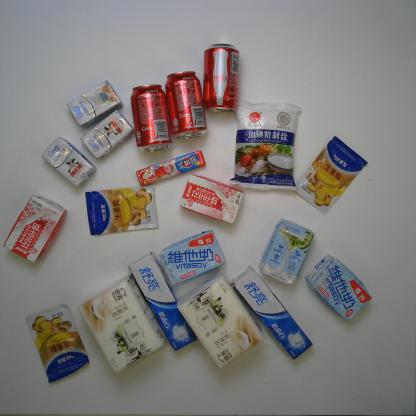Candy: (135, 150, 206, 187)
Drink: (164, 70, 208, 140), (130, 83, 173, 154), (203, 42, 240, 113)
Milk: (304, 254, 373, 323), (3, 193, 67, 264), (258, 218, 315, 286), (158, 229, 226, 286), (179, 173, 244, 225), (40, 136, 97, 187), (66, 79, 122, 129), (80, 109, 134, 160)
Personal Hygiene: (232, 265, 314, 361), (127, 250, 198, 352)
Seasoner: (229, 99, 302, 192), (295, 135, 369, 216), (26, 303, 90, 384), (84, 184, 159, 236)
Tissue: (77, 270, 164, 376), (176, 268, 264, 371)
